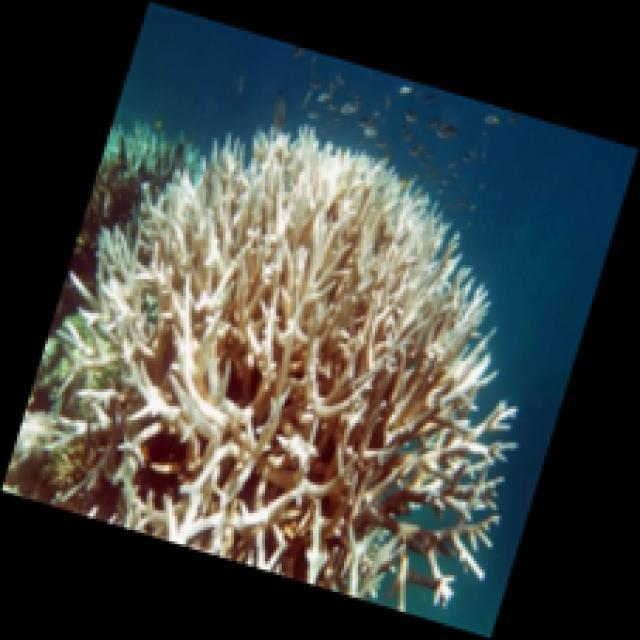Bleached: (65, 126, 520, 614)
